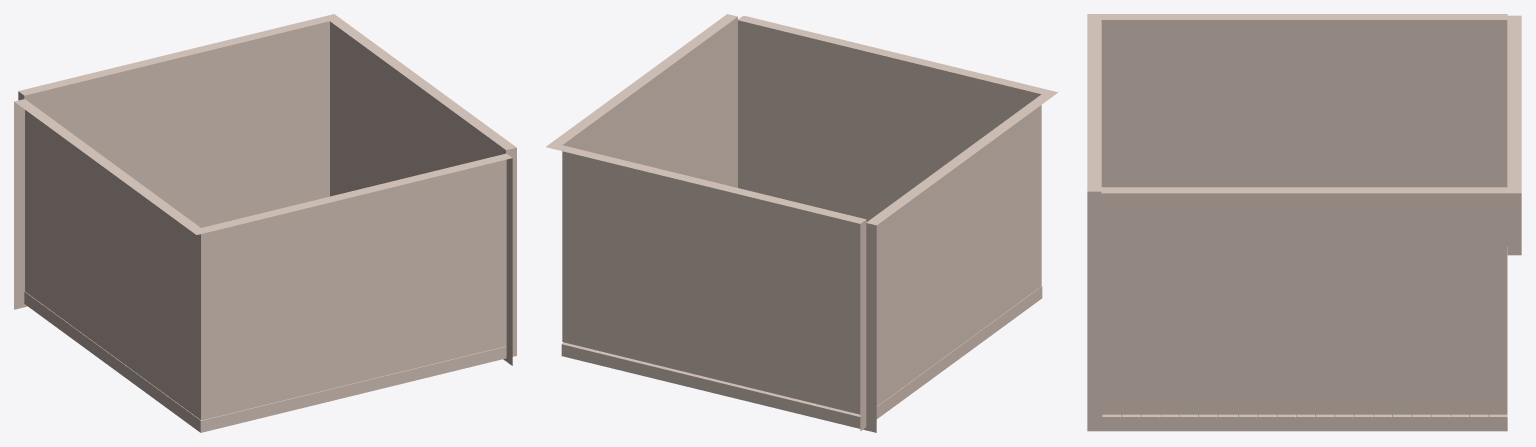
File: room3.glb
The picture shows the model from 3 angles, left to right: view 1: azimuth 30°, elevation 25°; view 2: azimuth 150°, elevation 25°; view 3: azimuth 270°, elevation 25°; orthographic projection. The views are drawn at different scales.
Parts seen in each view (by area): view 1: Cube.001; view 2: Cube.001; view 3: Cube.001.
Boxes of the visible parts, <box> form: Cube.001: <box>14,14,516,432</box>; Cube.001: <box>546,14,1057,432</box>; Cube.001: <box>1087,14,1521,431</box>.
Size of the model in its own units: 49.04 by 30.4 by 49.08.
